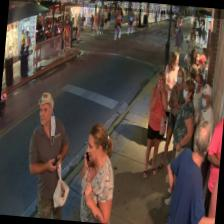person: (22, 90, 74, 219), (162, 117, 223, 224), (76, 122, 119, 224), (184, 82, 216, 202), (142, 69, 170, 180), (158, 50, 184, 144), (184, 72, 206, 148)
